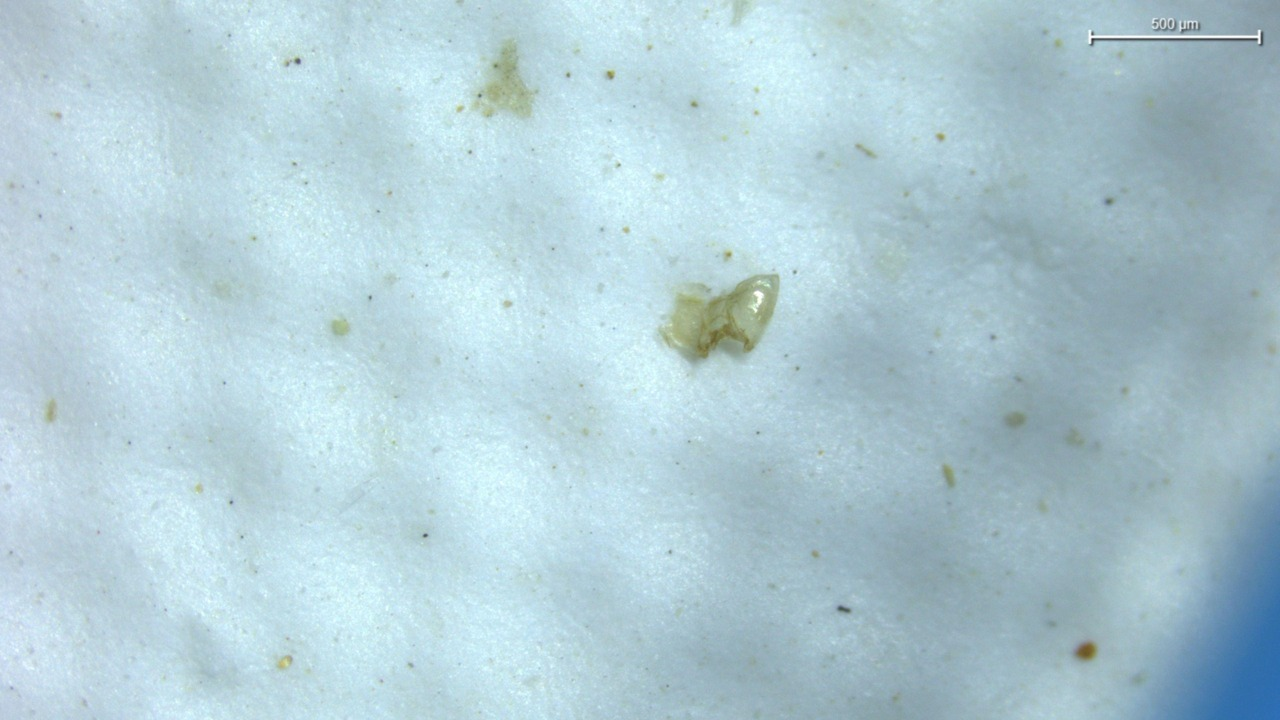microplastic_fragment: (659, 274, 780, 357)
